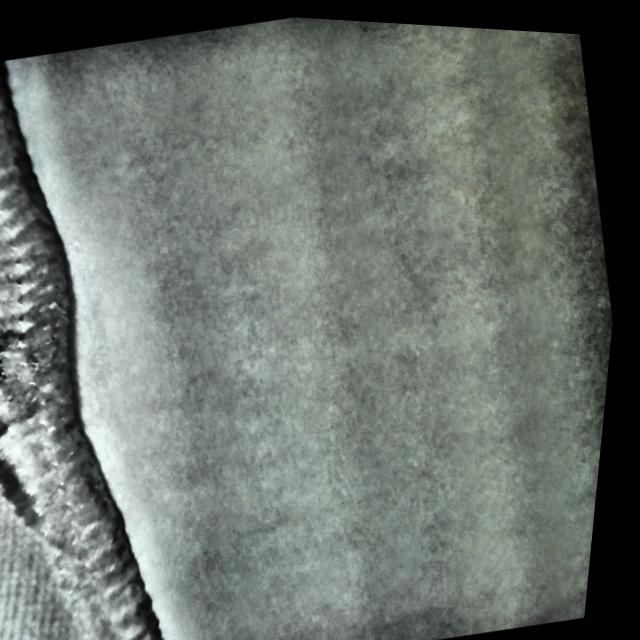seam: (0, 264, 116, 548)
